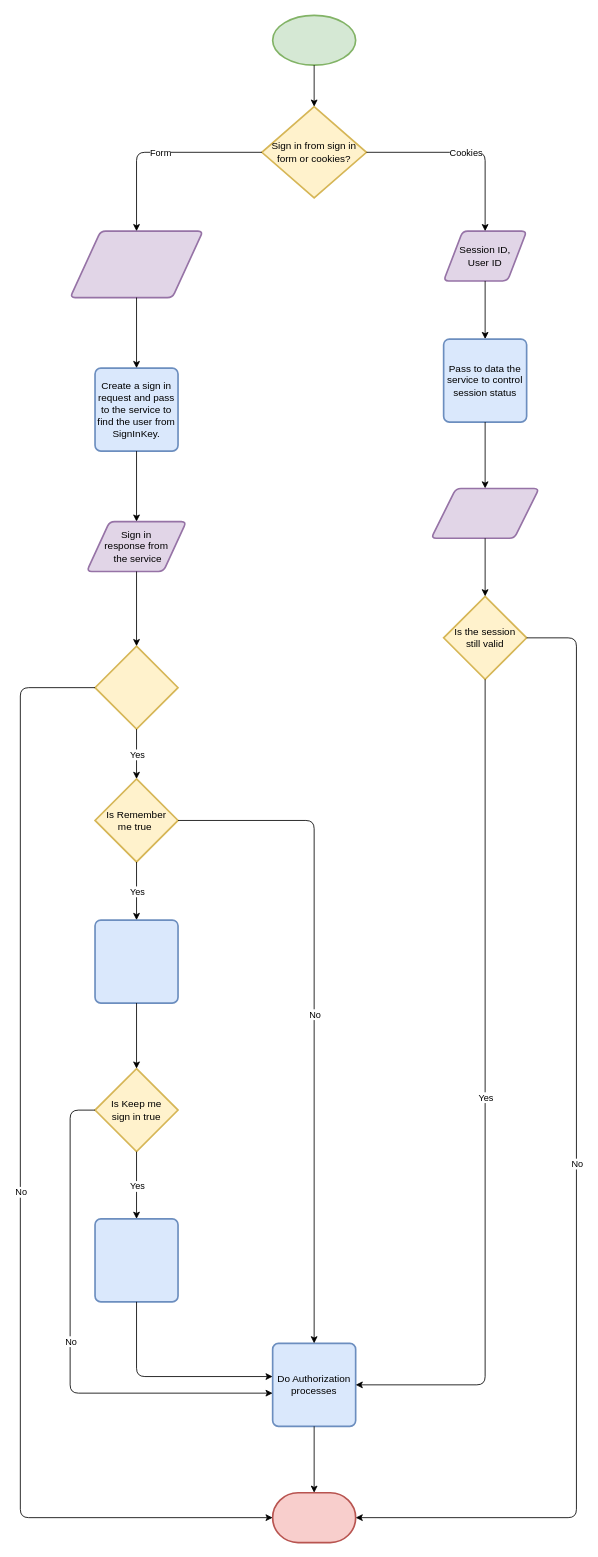
The diagram is 598 pixels wide and 1557 high, and some of its shapes have lost their labels. Each missing label, with the centre of its shape:
"Create Session Id and save cookies" belongs at (x=136, y=1260).
"Is password correct" belongs at (x=136, y=687).
"Save user to cookies" belongs at (x=136, y=961).
"Session control response" belongs at (x=485, y=513).
"SignInKey, Password, Remember me, Keep me sign in" belongs at (x=136, y=264).
